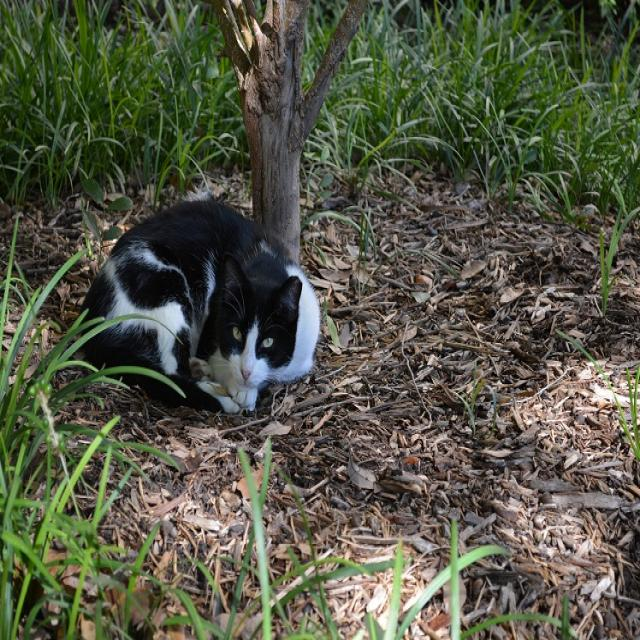cat: (84, 191, 320, 412)
